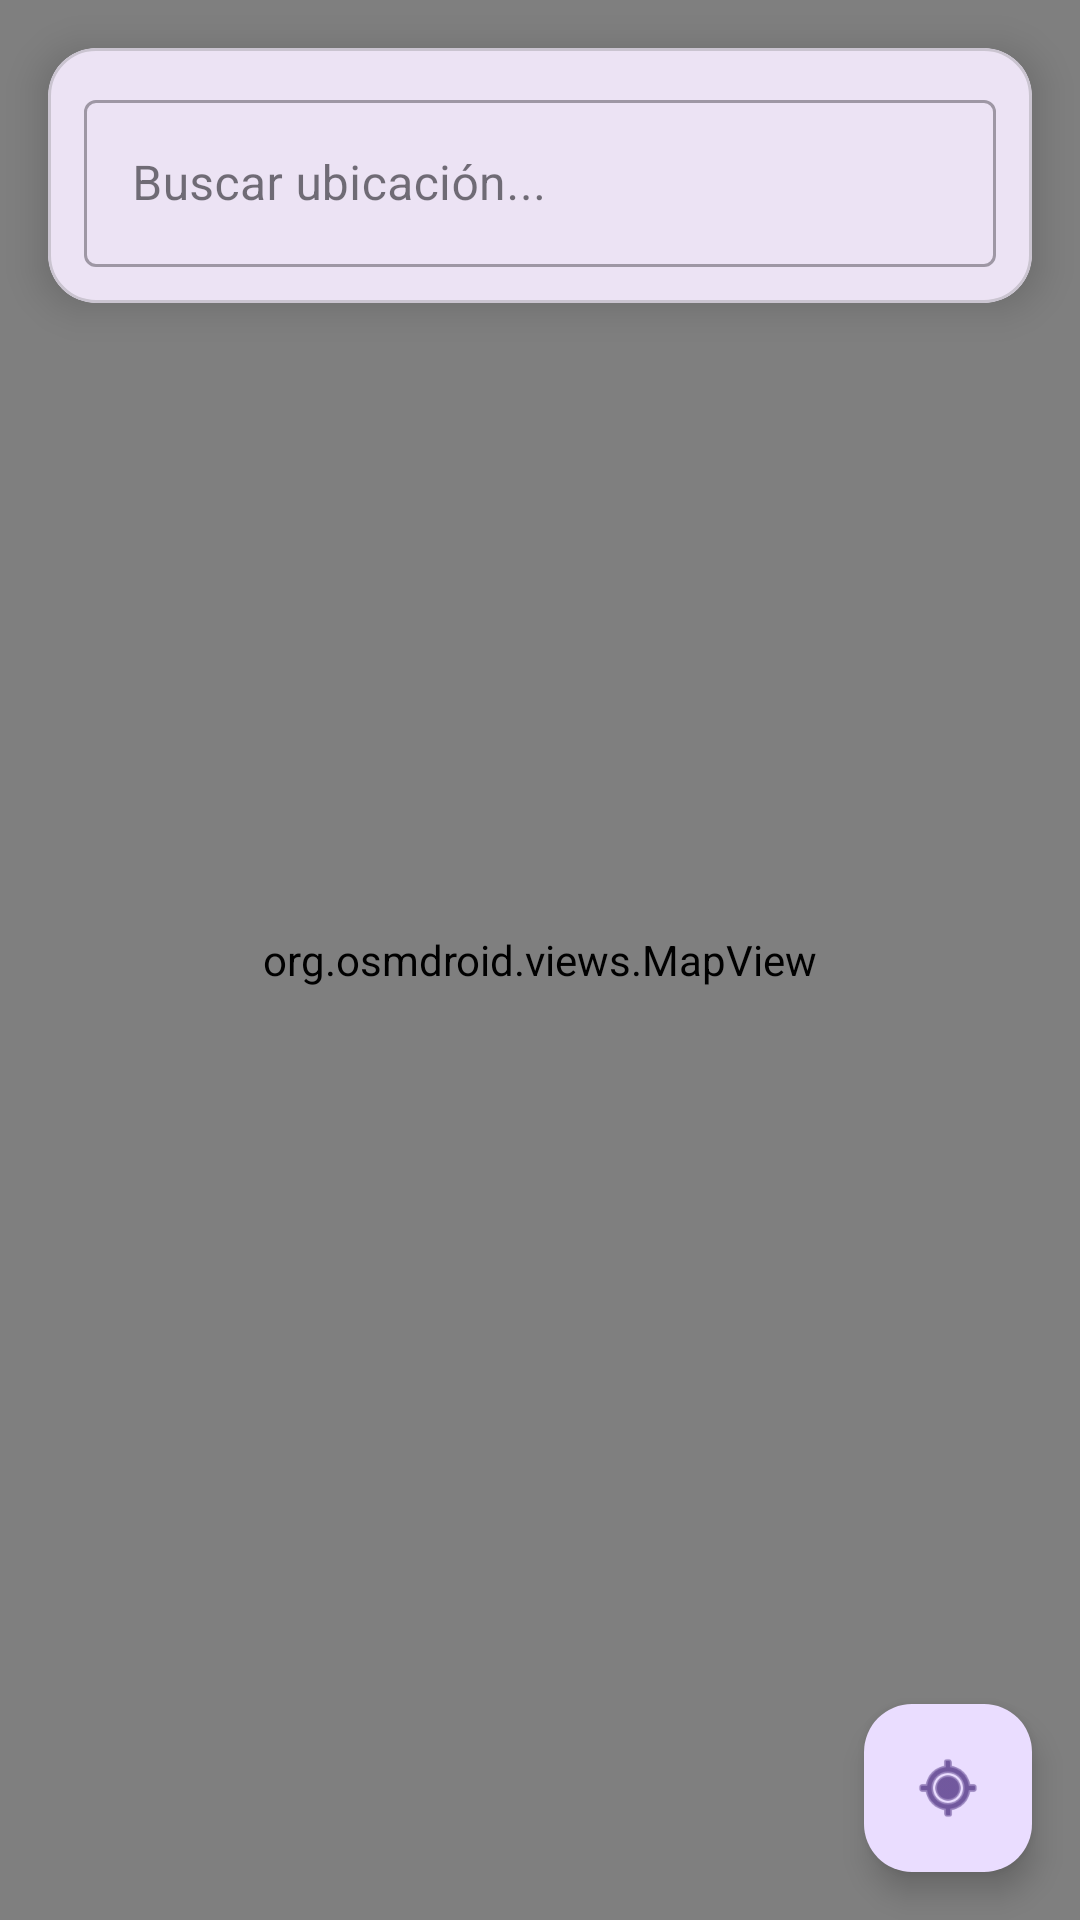

Icons on this 1080 x 1920 Android screen, each with its box as (x1, y1, x2, y2):
mylocation: (864, 1704, 1032, 1872)
